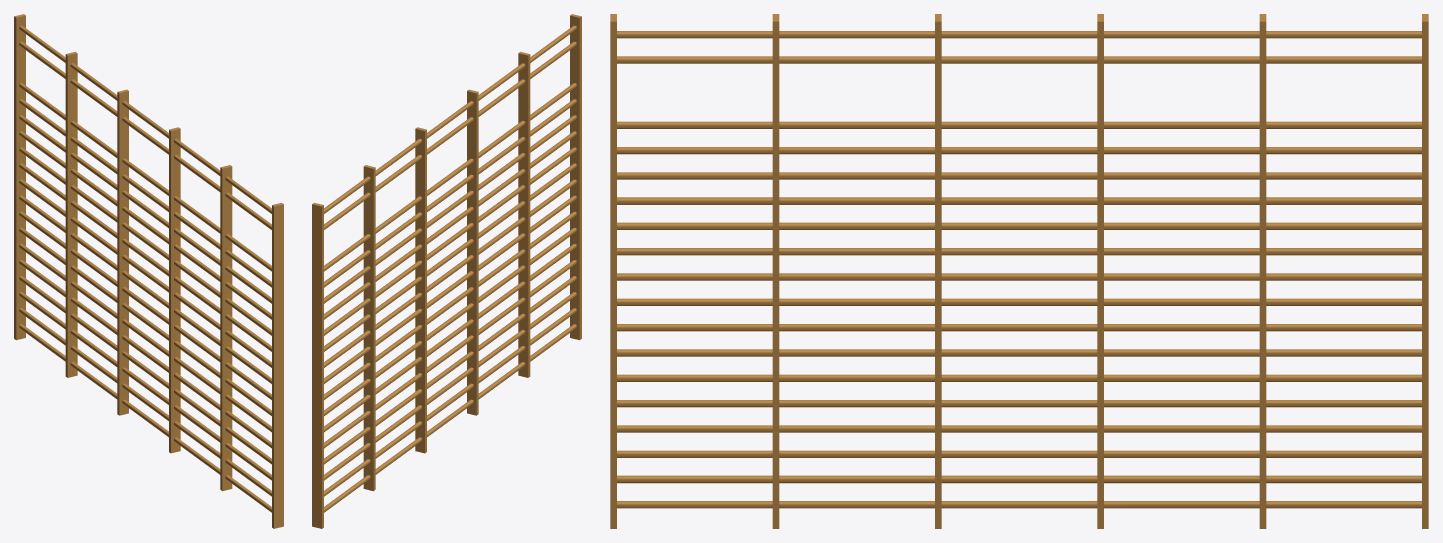
The model's file is drabinki5.fbx.
The picture shows the model from 3 angles, left to right: view 1: azimuth 30°, elevation 25°; view 2: azimuth 150°, elevation 25°; view 3: azimuth 270°, elevation 25°; orthographic projection. The views are drawn at different scales.
Visible parts, largest first — view 1: Cube.004; view 2: Cube.004; view 3: Cube.004.
Part boxes in pixels (box(x1,y1,x2,y2)): Cube.004: box(14, 14, 283, 528); Cube.004: box(312, 14, 581, 528); Cube.004: box(610, 14, 1428, 528).
Bounding box in the file's own units: 13.93 × 437 × 639.
